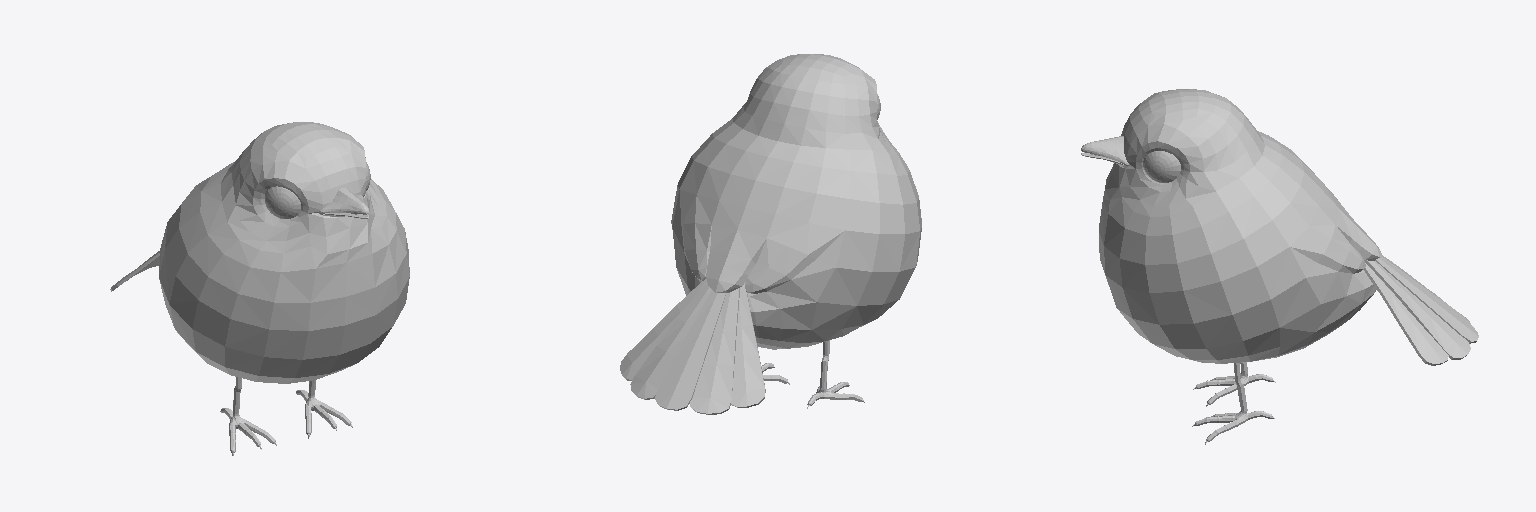
The model's file is Bird_3.obj.
3 views of the same model, side by side, from view 1: azimuth 30°, elevation 25°; view 2: azimuth 150°, elevation 25°; view 3: azimuth 270°, elevation 25° (orthographic).
Visible parts, largest first — view 1: Object_51; view 2: Object_51; view 3: Object_51.
Boxes of the visible parts, box(x1,y1,x2,y2) form: Object_51: box(110, 122, 409, 455); Object_51: box(620, 54, 921, 414); Object_51: box(1081, 89, 1478, 444).
Bounding box in the file's own units: 0.4184 × 0.5842 × 0.6608.